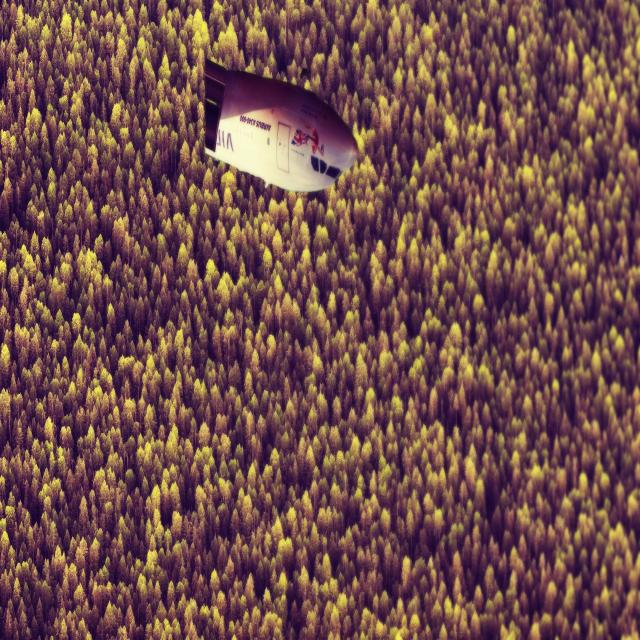airplane: (202, 57, 360, 193)
